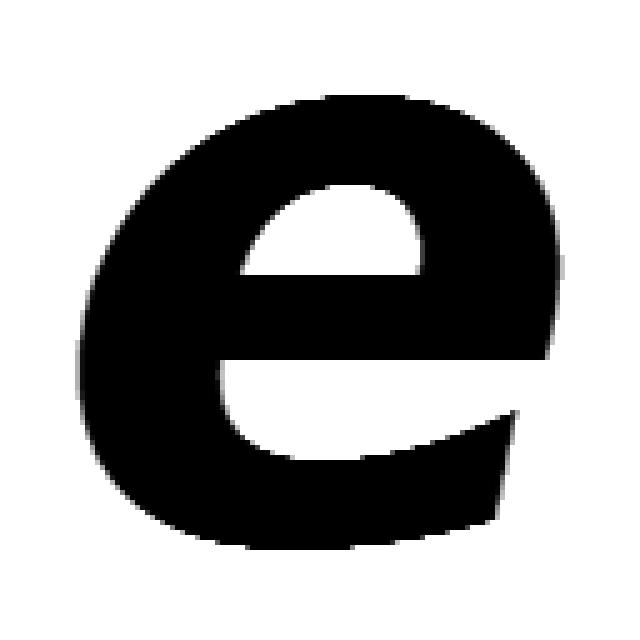E: (80, 95, 560, 550)
